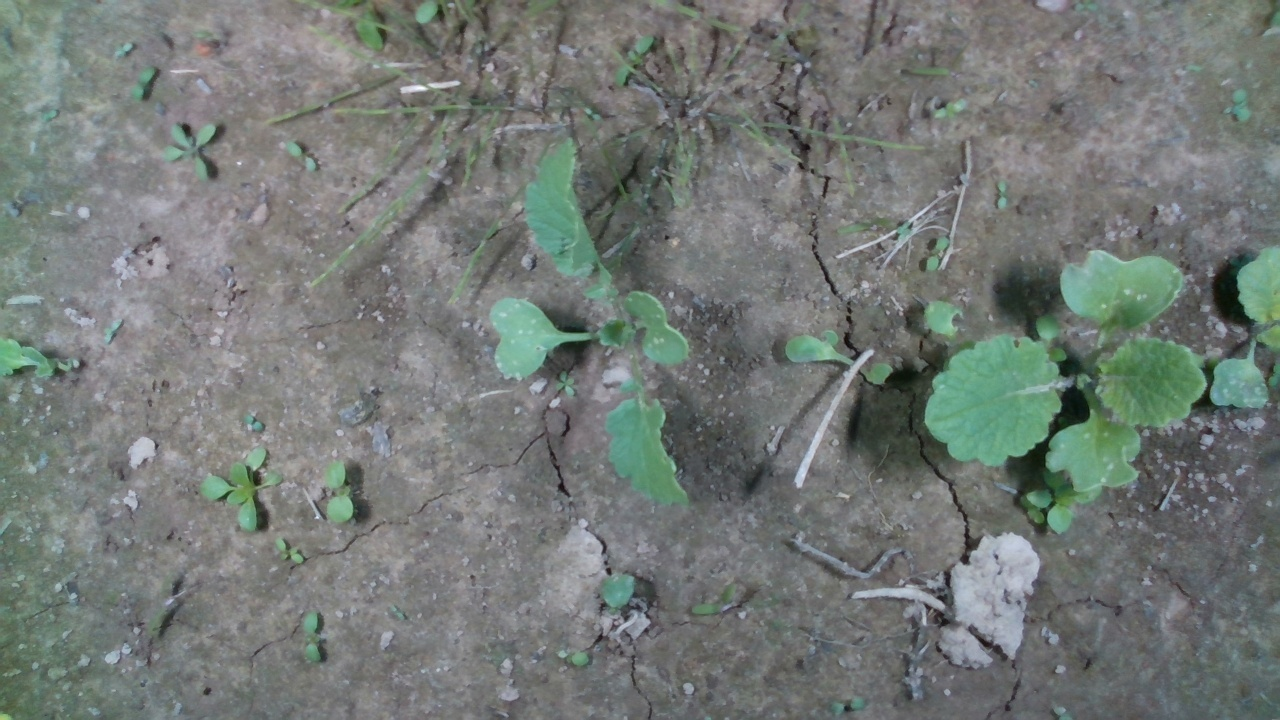weed: (162, 119, 222, 182), (321, 457, 354, 525), (689, 581, 739, 617), (300, 609, 323, 665), (127, 62, 158, 102), (284, 138, 319, 172), (273, 535, 304, 565), (925, 234, 950, 271), (829, 695, 867, 717), (99, 314, 123, 348), (108, 38, 135, 58), (994, 177, 1007, 212)
